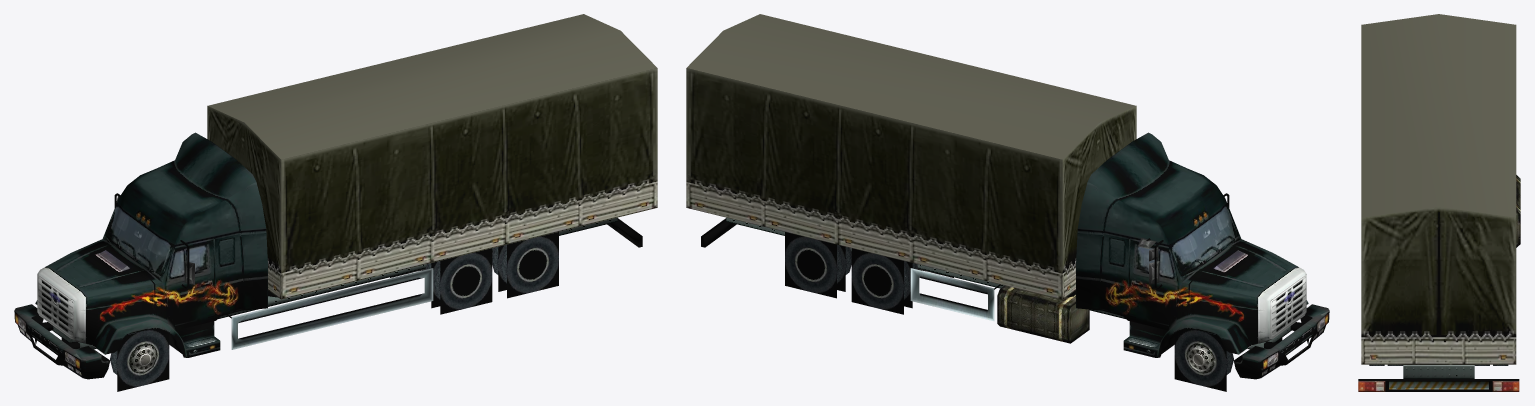
The model's file is fura_4.glb.
3 renders of one model, left to right at view 1: azimuth 30°, elevation 25°; view 2: azimuth 150°, elevation 25°; view 3: azimuth 270°, elevation 25°, orthographic. The views are drawn at different scales.
Visible parts, largest first — view 1: wheel_F_R; view 2: wheel_F_R; view 3: wheel_F_R.
Boxes of the visible parts, box(x1,y1,x2,y2) form: wheel_F_R: box(14, 14, 657, 391); wheel_F_R: box(686, 14, 1329, 391); wheel_F_R: box(1358, 14, 1520, 391).
Bounding box in the file's own units: 11.72 × 4.04 × 2.72.
Materials: 20 (18 with a texture image).
